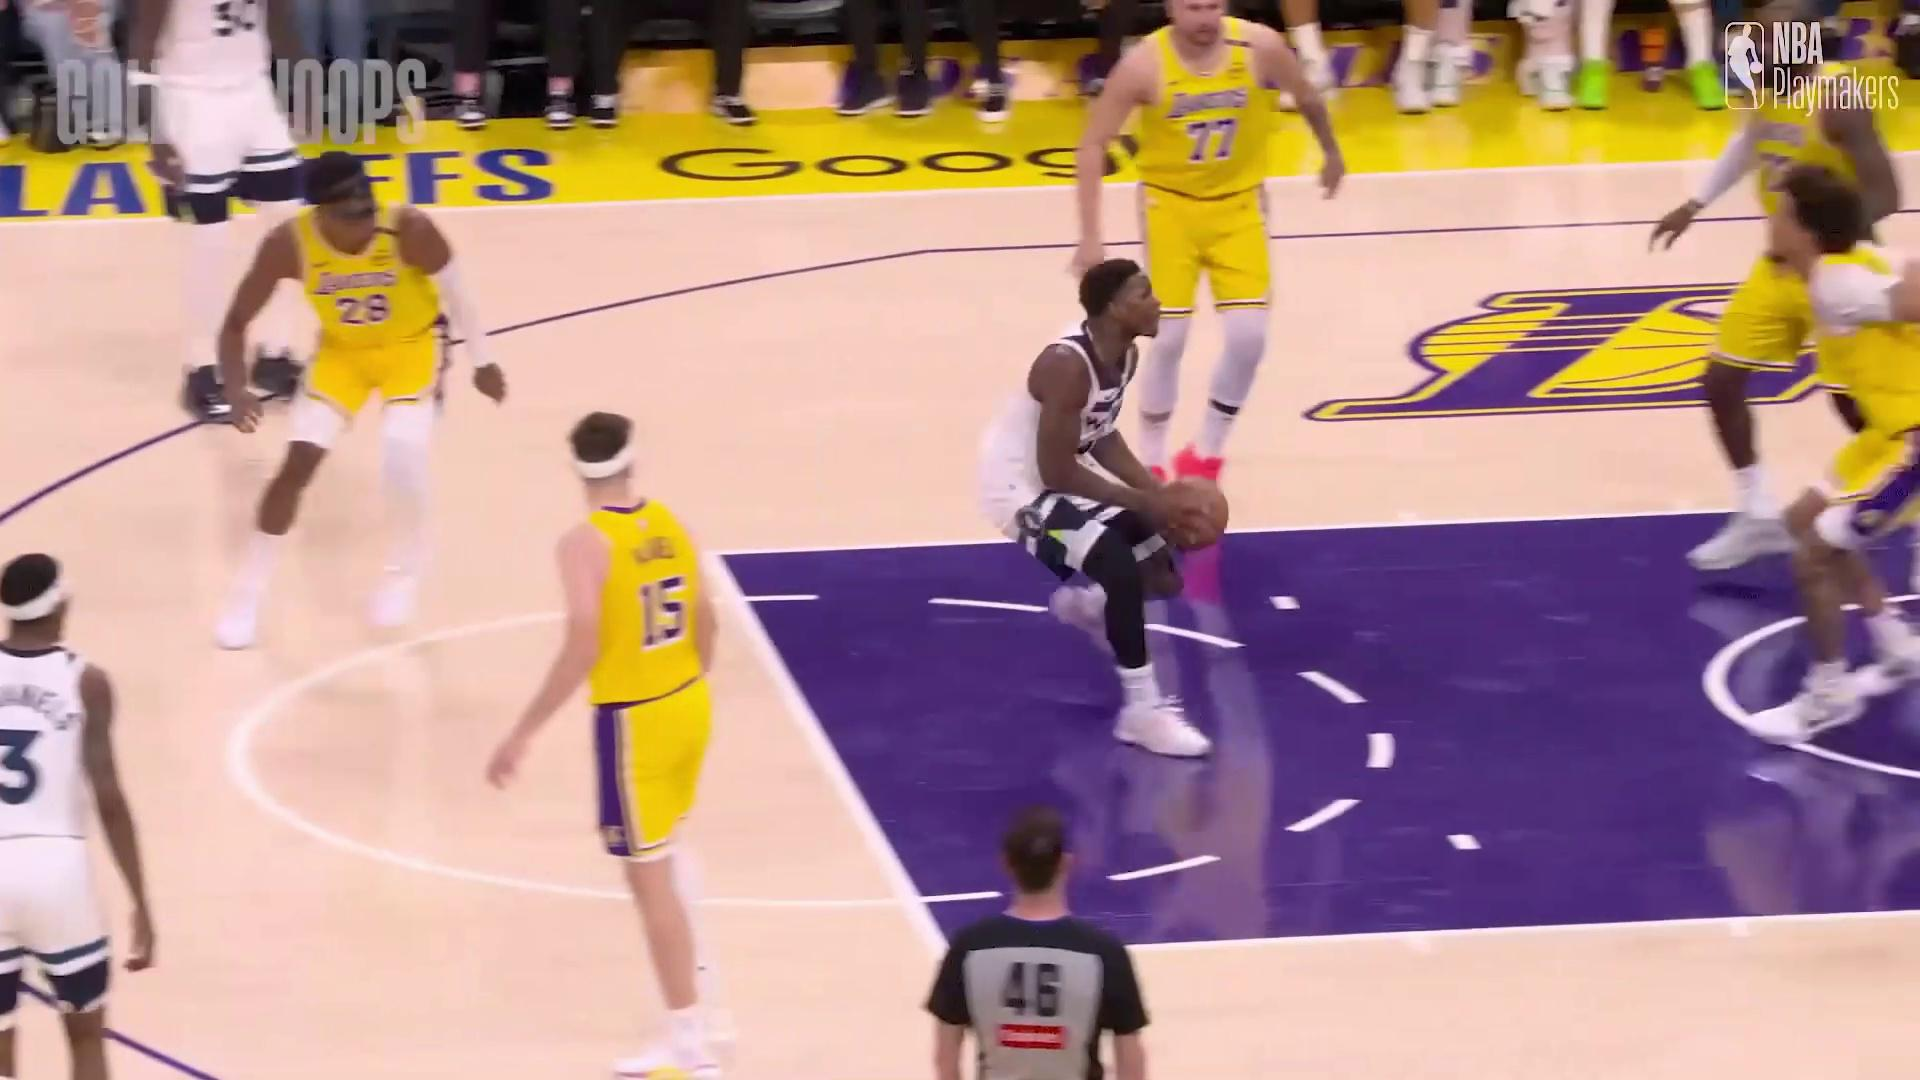ball: (1168, 475, 1230, 550)
